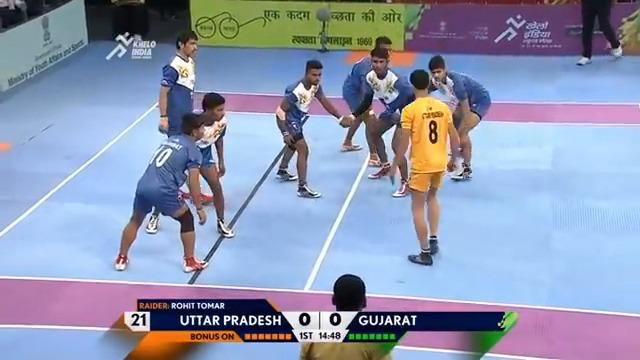Player: (113, 111, 213, 273), (145, 91, 235, 237), (145, 30, 201, 234), (274, 58, 354, 198), (340, 46, 414, 197), (298, 273, 408, 359), (427, 54, 491, 180)
Raider: (389, 68, 462, 265)
referee: (574, 0, 623, 66)
